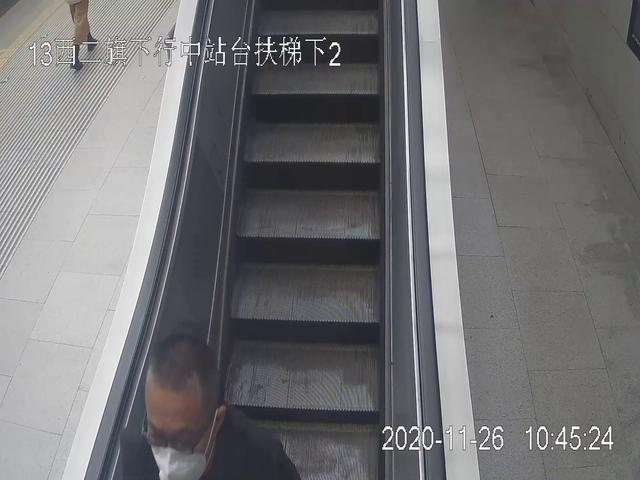person: (117, 334, 299, 480)
